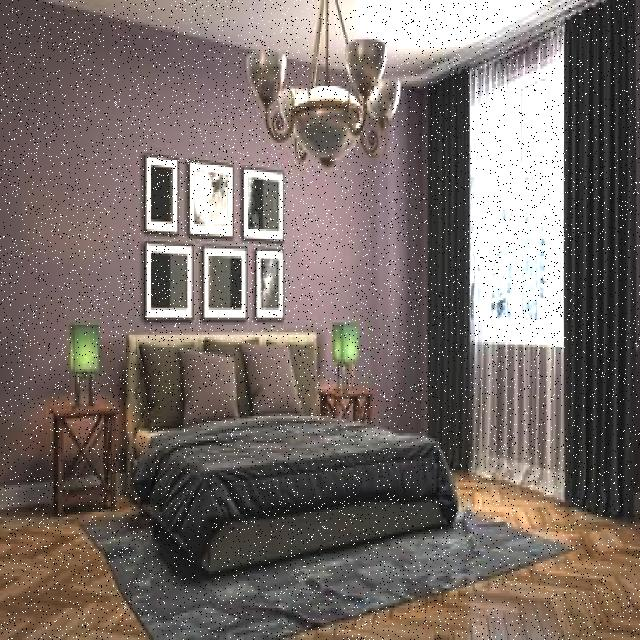bed: (129, 341, 434, 541)
